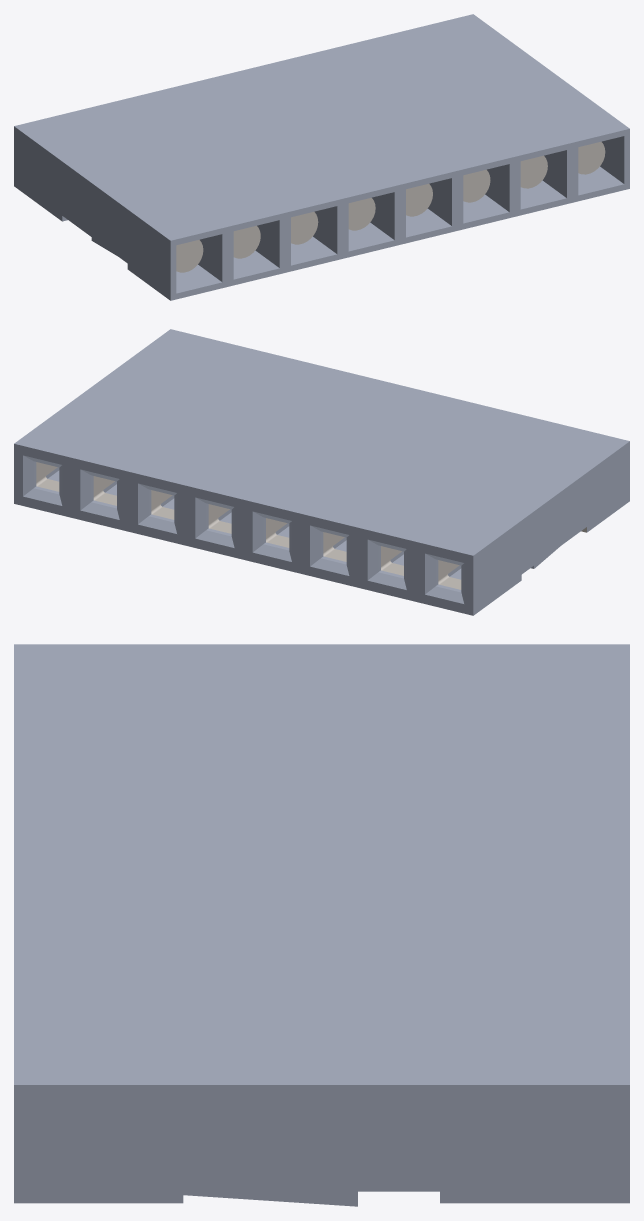
3 renders of one model, top to bottom at view 1: azimuth 30°, elevation 25°; view 2: azimuth 150°, elevation 25°; view 3: azimuth 270°, elevation 25°, orthographic. The views are drawn at different scales.
Visible parts, largest first — view 1: DS1071-1x8; view 2: DS1071-1x8; view 3: DS1071-1x8.
Boxes of the visible parts, bbox=[...] form: DS1071-1x8: bbox=[14, 14, 629, 300]; DS1071-1x8: bbox=[14, 329, 629, 615]; DS1071-1x8: bbox=[14, 644, 629, 1206].
Bounding box in the file's own units: 0.0179 × 0.00245 × 0.0105.
